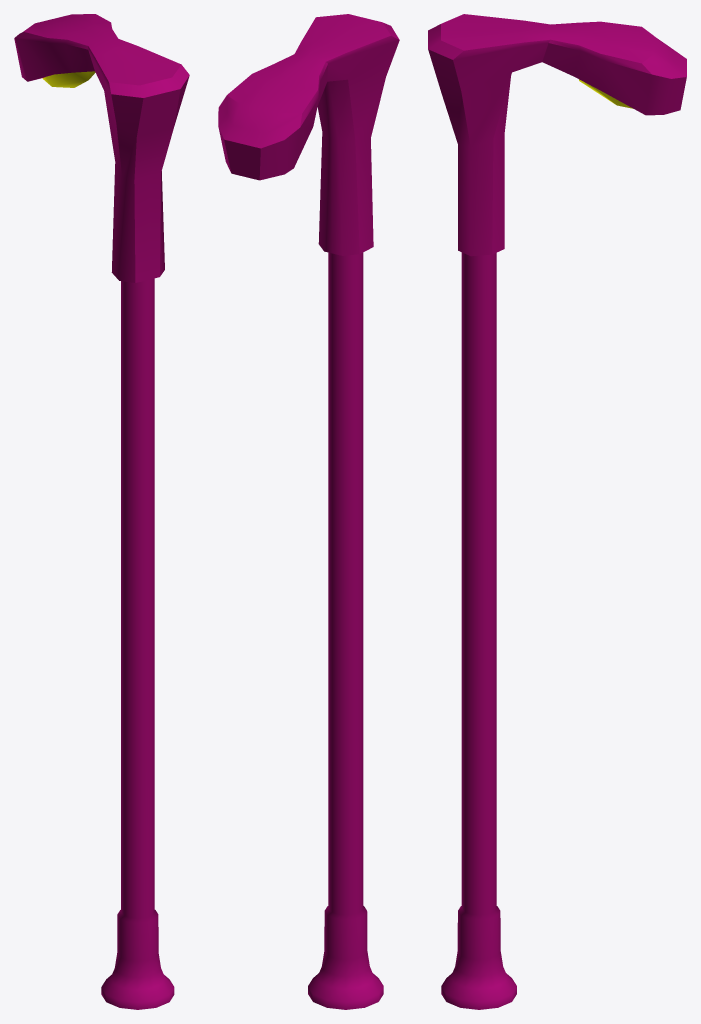
Rendered from SM_Trafficlight.fbx.
3 views of the same model, side by side, from view 1: azimuth 30°, elevation 25°; view 2: azimuth 150°, elevation 25°; view 3: azimuth 270°, elevation 25° (orthographic). The views are drawn at different scales.
Parts seen in each view (by area): view 1: SM_Trafficlight; view 2: SM_Trafficlight; view 3: SM_Trafficlight.
Part boxes in pixels (x1,y1,x2,y2): SM_Trafficlight: (14,14,189,1009); SM_Trafficlight: (218,14,399,1009); SM_Trafficlight: (428,14,686,1009).
Size of what is drawn, in the model's own units: 37.2 by 420 by 102.
